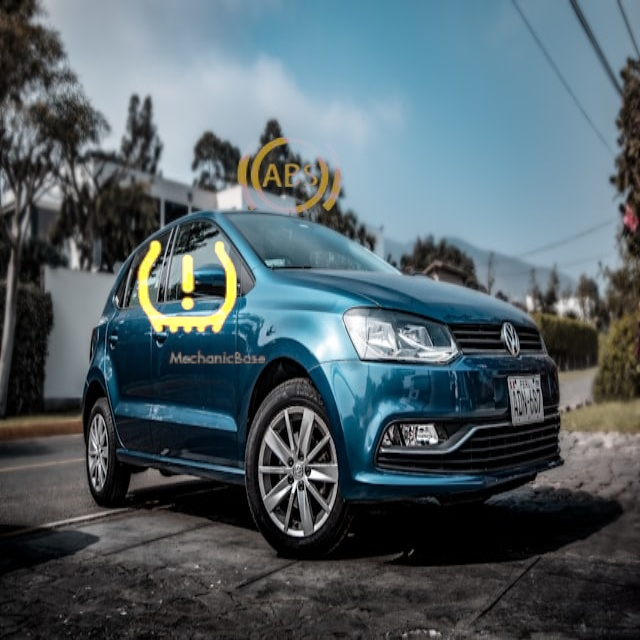symbol: (104, 204, 272, 372), (215, 102, 364, 251)
